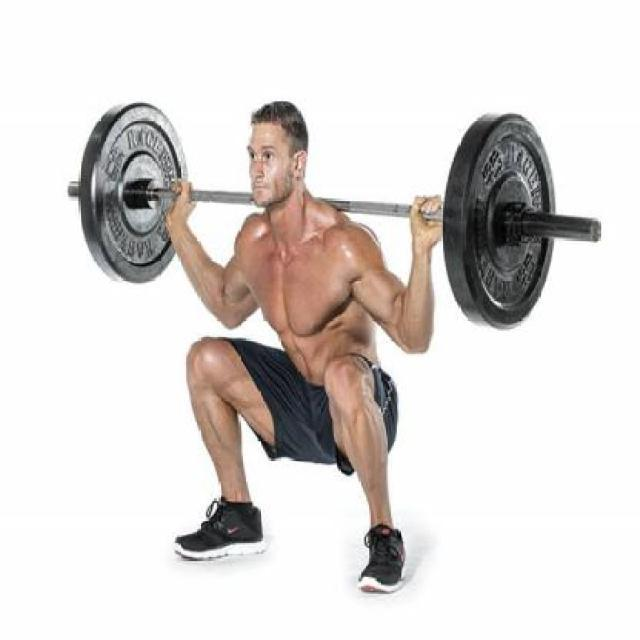barbell: (440, 100, 614, 336)
